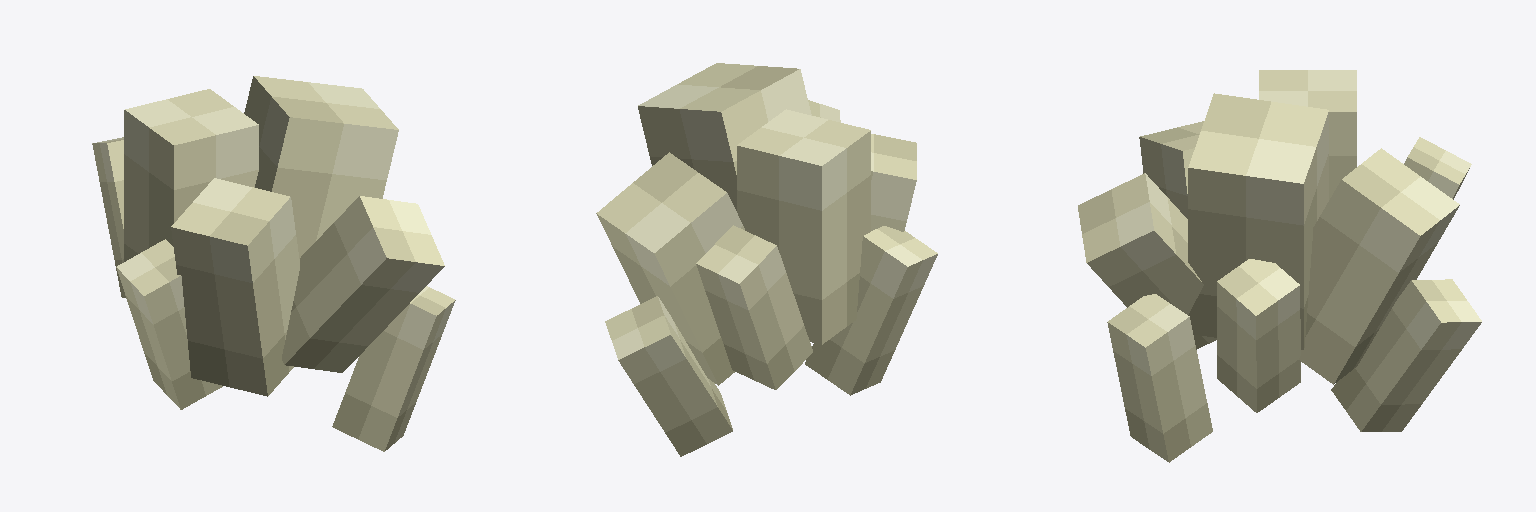
3 renders of one model, left to right at view 1: azimuth 30°, elevation 25°; view 2: azimuth 150°, elevation 25°; view 3: azimuth 270°, elevation 25°, orthographic.
Visible parts, largest first — view 1: cube; view 2: cube; view 3: cube.
Boxes of the visible parts, <box> form: cube: <box>92,76,455,451</box>; cube: <box>596,63,937,456</box>; cube: <box>1078,70,1481,462</box>.
Bounding box in the file's own units: 0.2066 × 0.2279 × 0.2567.
Materials: 1 (1 with a texture image).